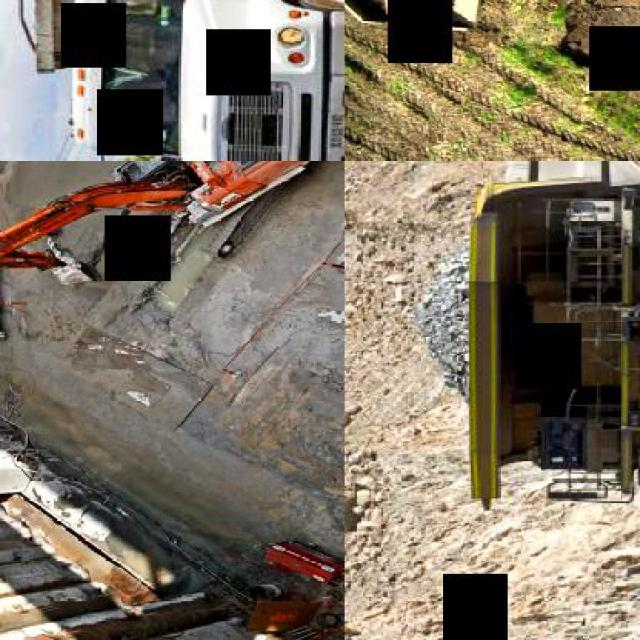dump_truck: (418, 160, 638, 505), (1, 0, 343, 158)
excavator: (0, 160, 317, 286)
